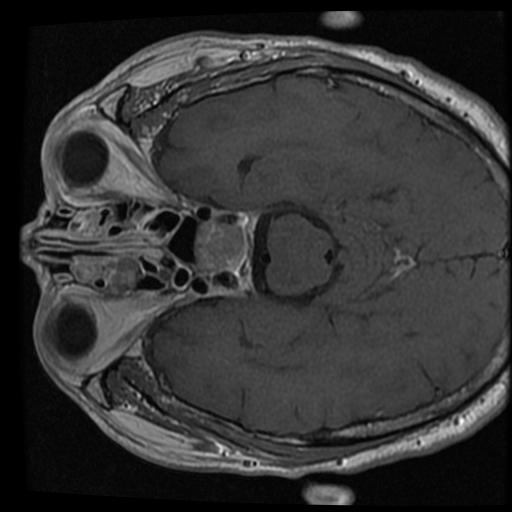pituitary tumour: (194, 220, 241, 273)
